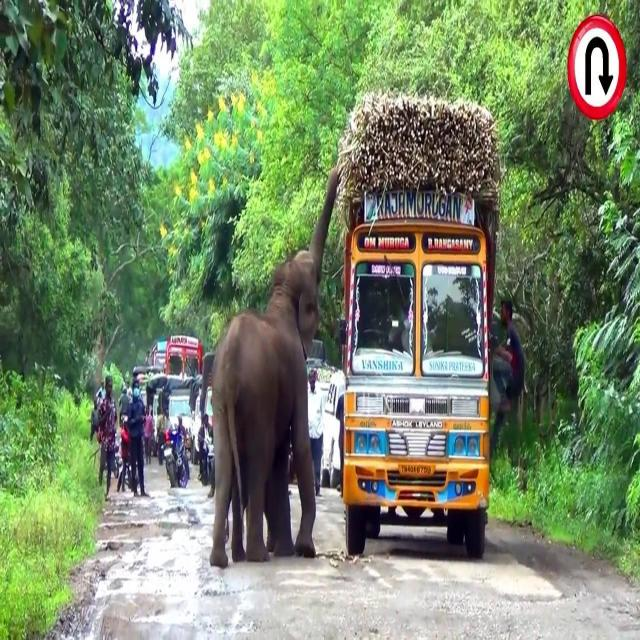Elephant: (209, 166, 340, 570)
